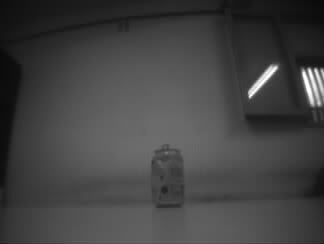Tin can: (150, 144, 186, 209)
